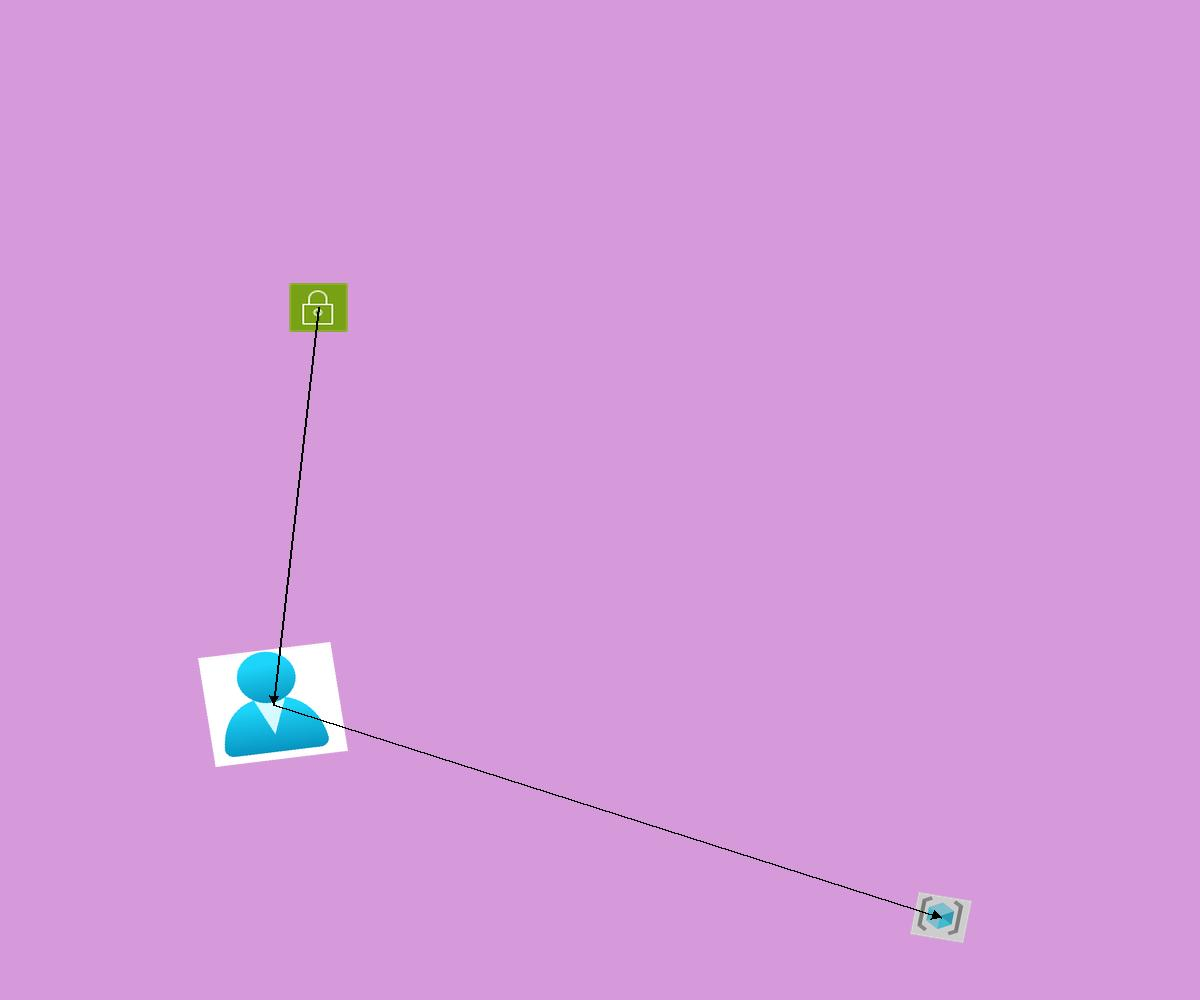AWS-Public-subnet: (288, 282, 349, 333)
Azure_resource_group: (910, 892, 972, 943)
Azure_users: (198, 642, 348, 767)
